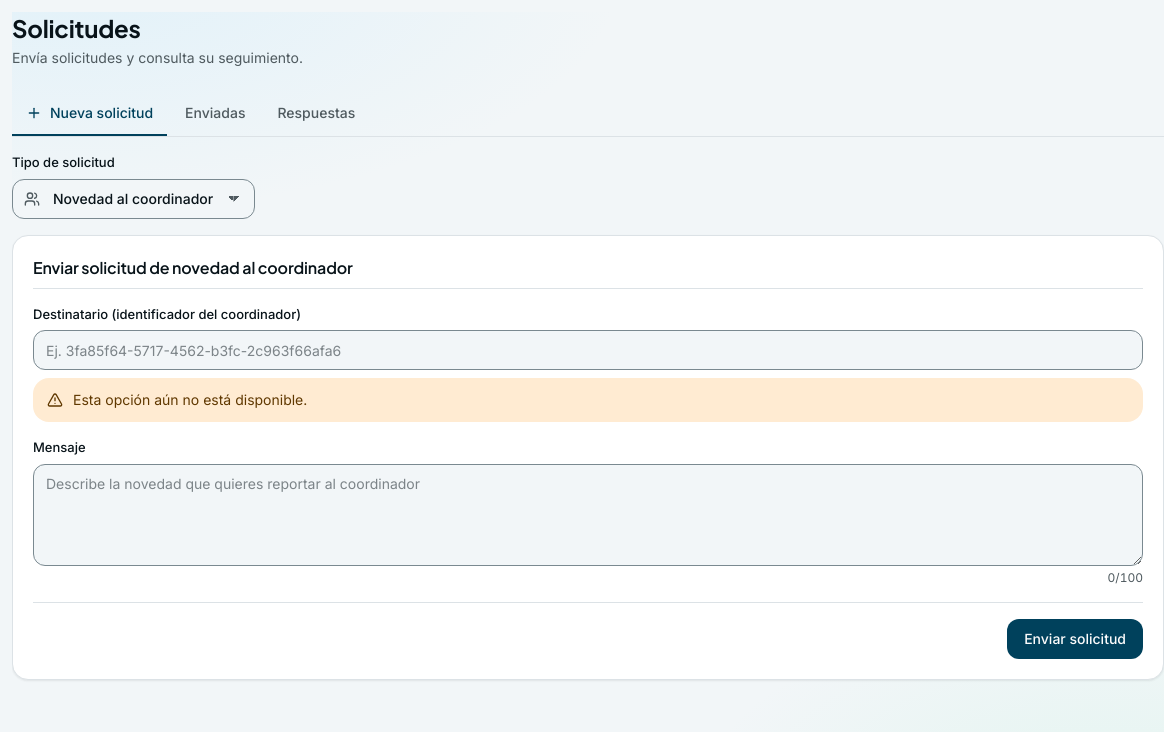
Test: Solicitudes › en Respuestas el estudiante cambia a Cambio de asesor y ve ese listado
Click the tab "Respuestas": point(316, 114) [263, 92, 369, 136]
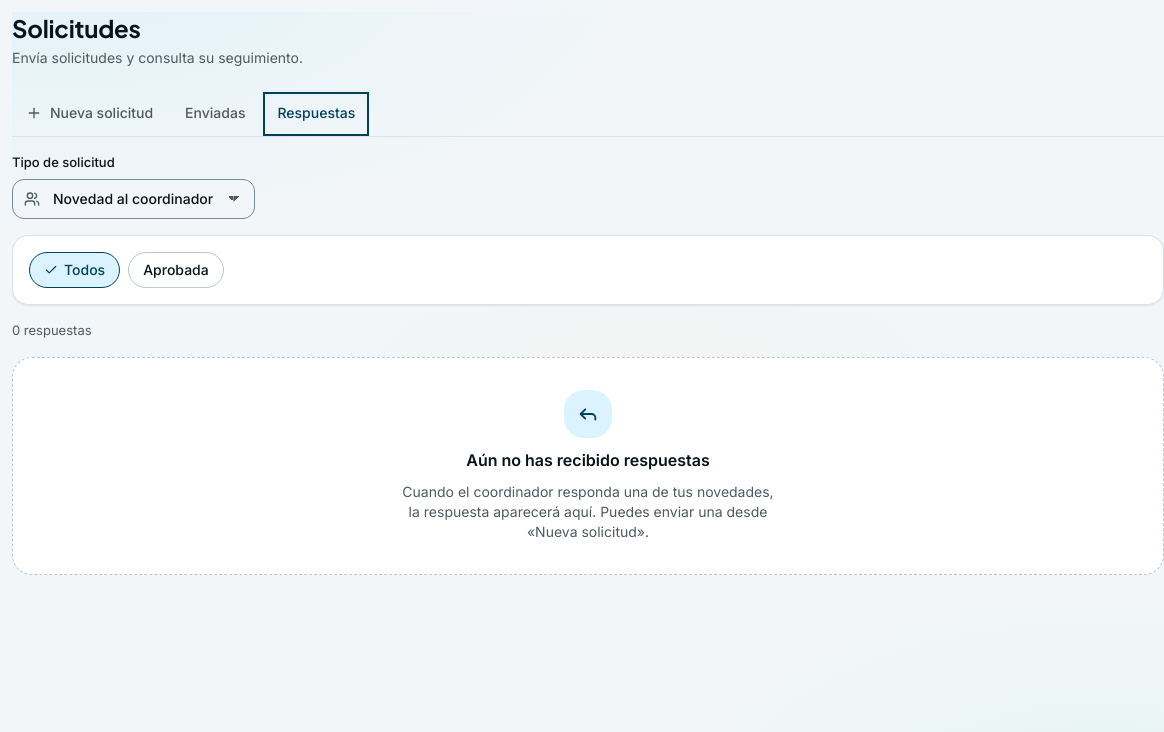
Select "Cambio de asesor" in the dropdown labelled "Tipo de solicitud": point(134, 198) [12, 178, 255, 218]
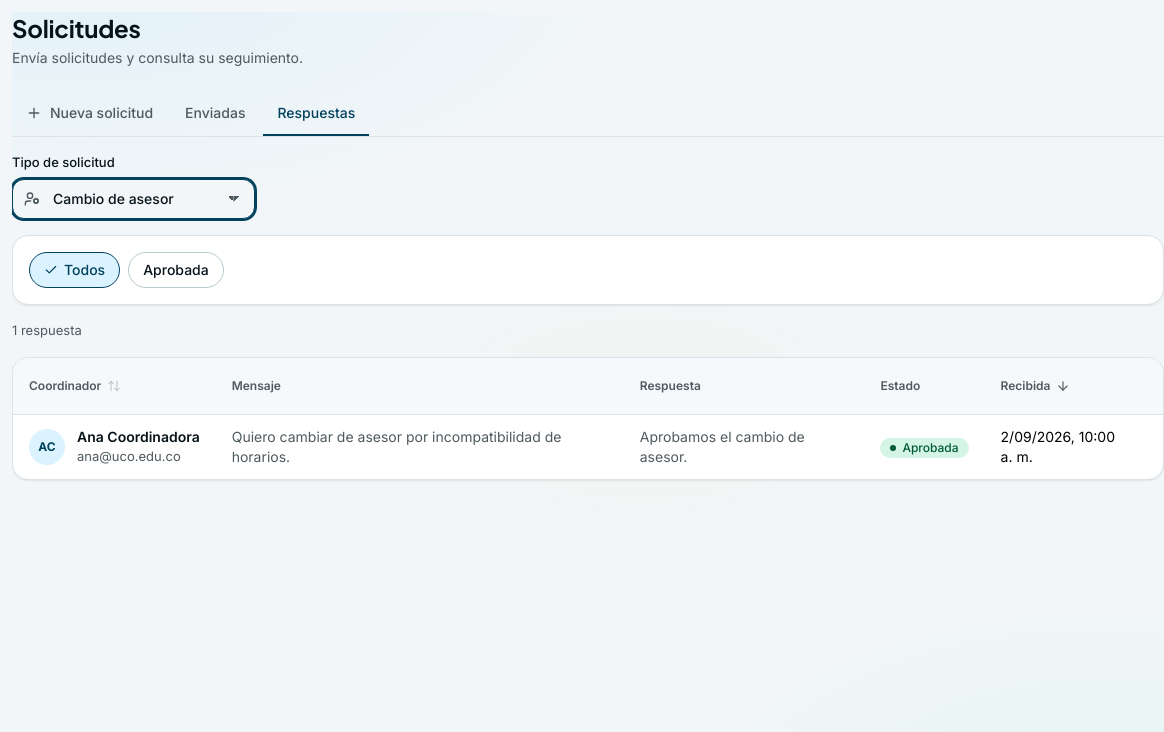
Check: the text "Aprobamos el cambio de asesor." is shown, box [640, 428, 805, 464]
